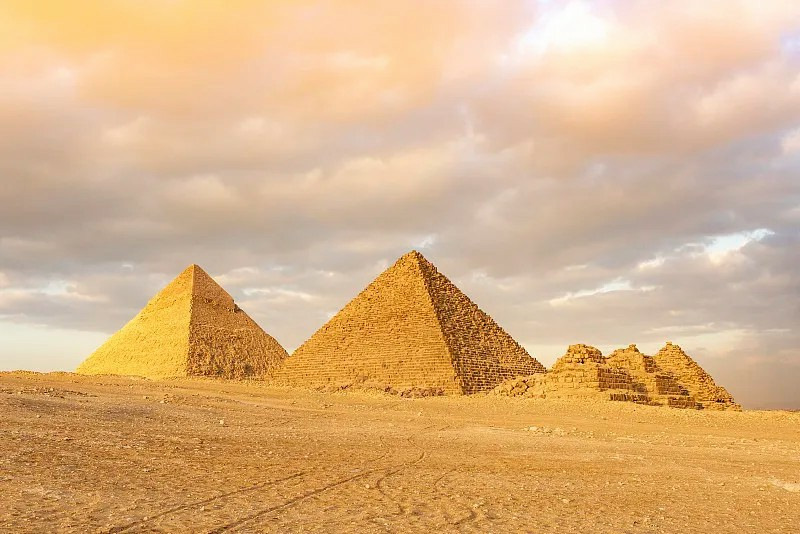Pyramid: (266, 249, 550, 397), (78, 264, 290, 378)
